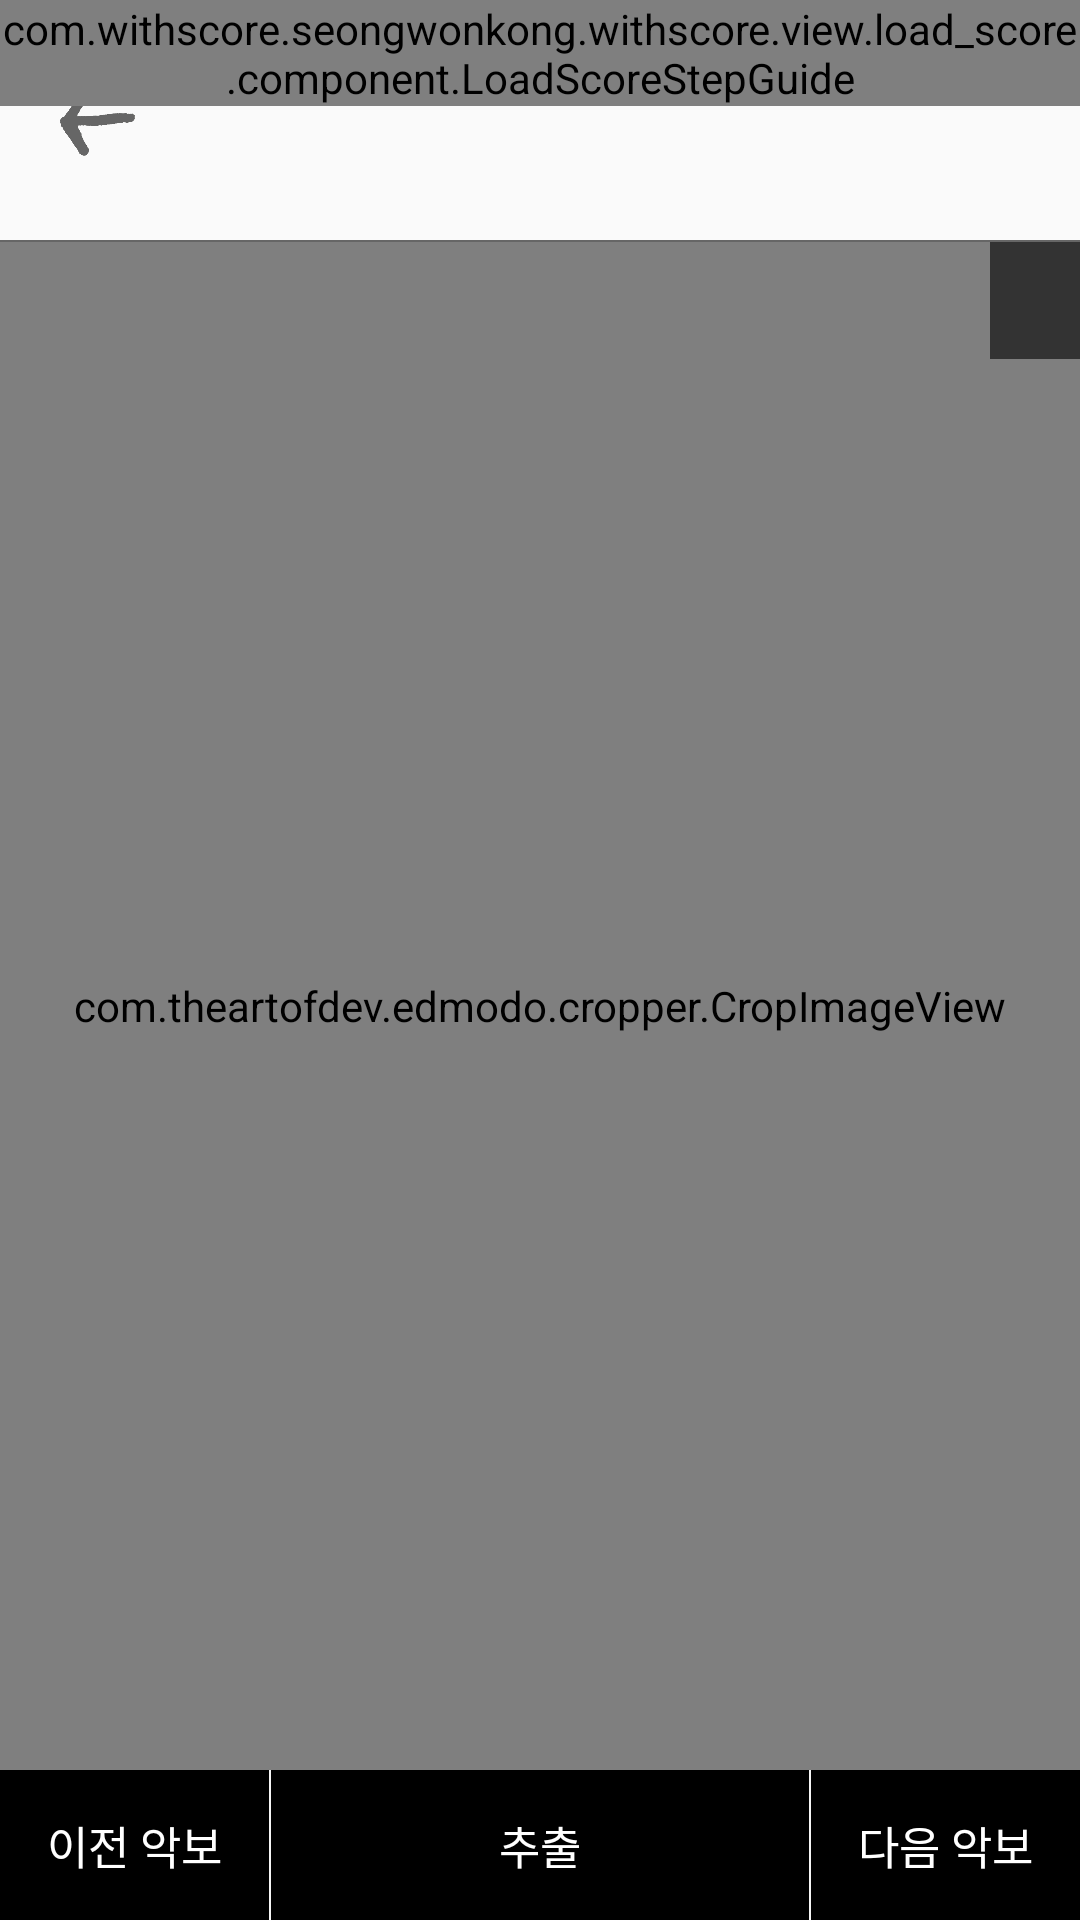

Point at icon controls on the screen. Image size 1080 x 1920, points as [x,y].
back: [97,119]
